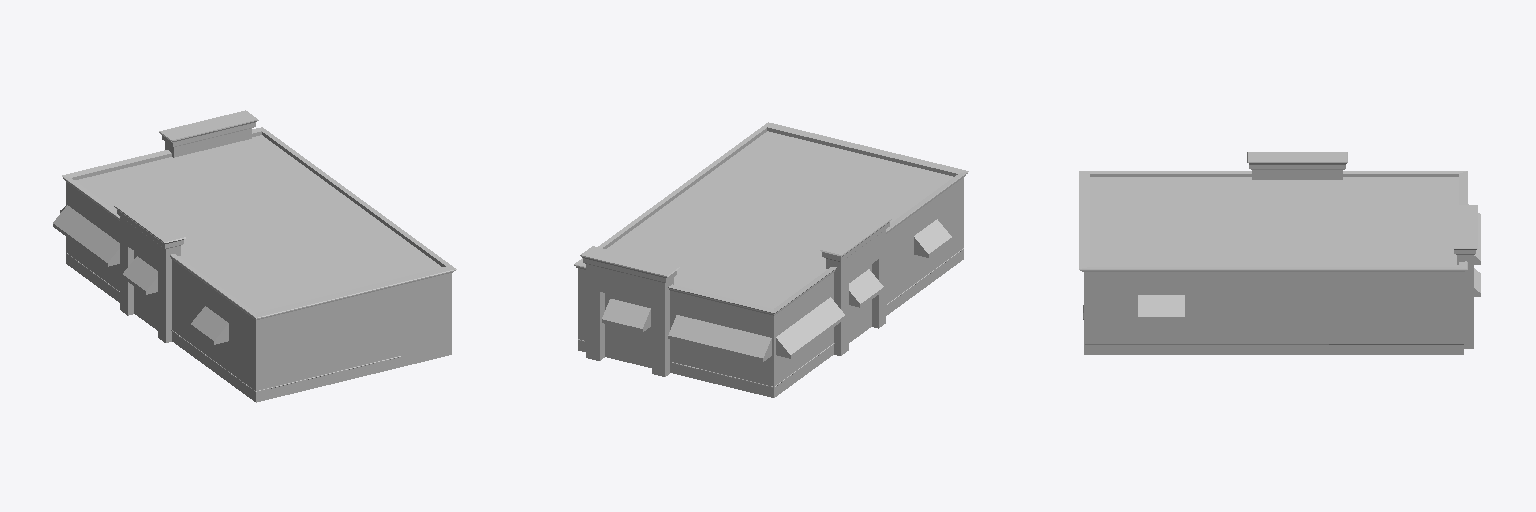
Rendered from tigers-burgers.obj.
3 views of the same model, side by side, from view 1: azimuth 30°, elevation 25°; view 2: azimuth 150°, elevation 25°; view 3: azimuth 270°, elevation 25° (orthographic).
Parts seen in each view (by area): view 1: tigers-burgers; view 2: tigers-burgers; view 3: tigers-burgers.
Part boxes in pixels (left/top/right/bottom): tigers-burgers: left=53, top=110, right=456, bottom=402; tigers-burgers: left=574, top=122, right=968, bottom=397; tigers-burgers: left=1079, top=152, right=1480, bottom=354.
Bounding box in the file's own units: 18.01 × 7.88 × 27.76.